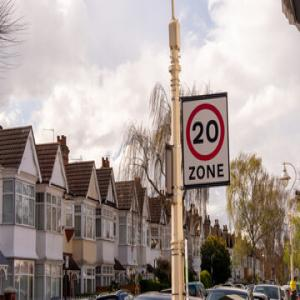speed limit 20: (182, 96, 231, 188)
